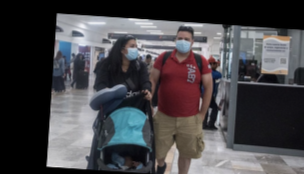with_mask: (123, 42, 140, 62), (175, 35, 192, 54)
